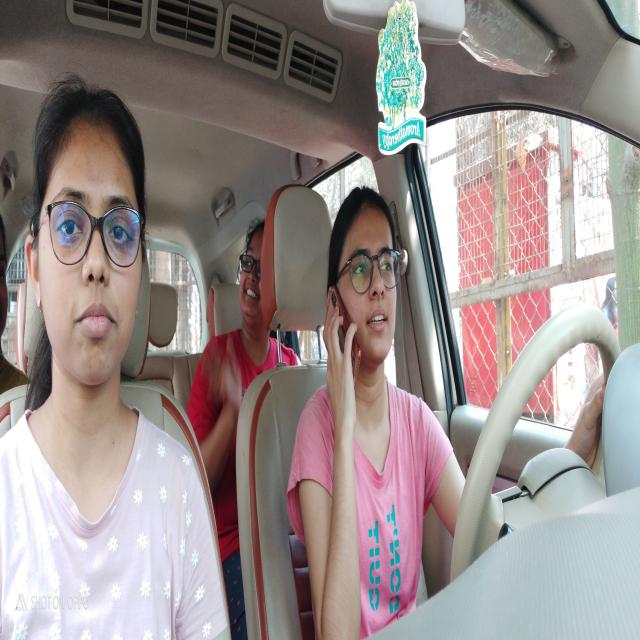mobile: (324, 292, 362, 386)
person: (38, 87, 142, 378), (333, 200, 405, 362), (246, 216, 282, 349), (0, 210, 21, 346)
